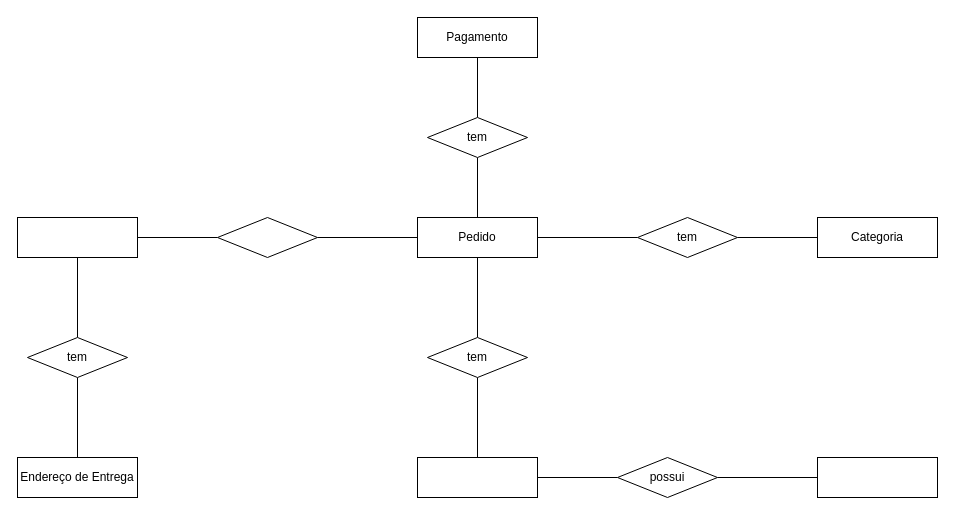
This 955x515 diagram has some shape labels left out. Here are the shapes that lost their labels. From the top down, the centre of each, then its label:
At [77,237]: "Cliente".
At [267,237]: "faz".
At [477,477]: "Item do Pedido".
At [877,477]: "Produto".
